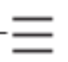menu: (9, 7, 59, 59)
